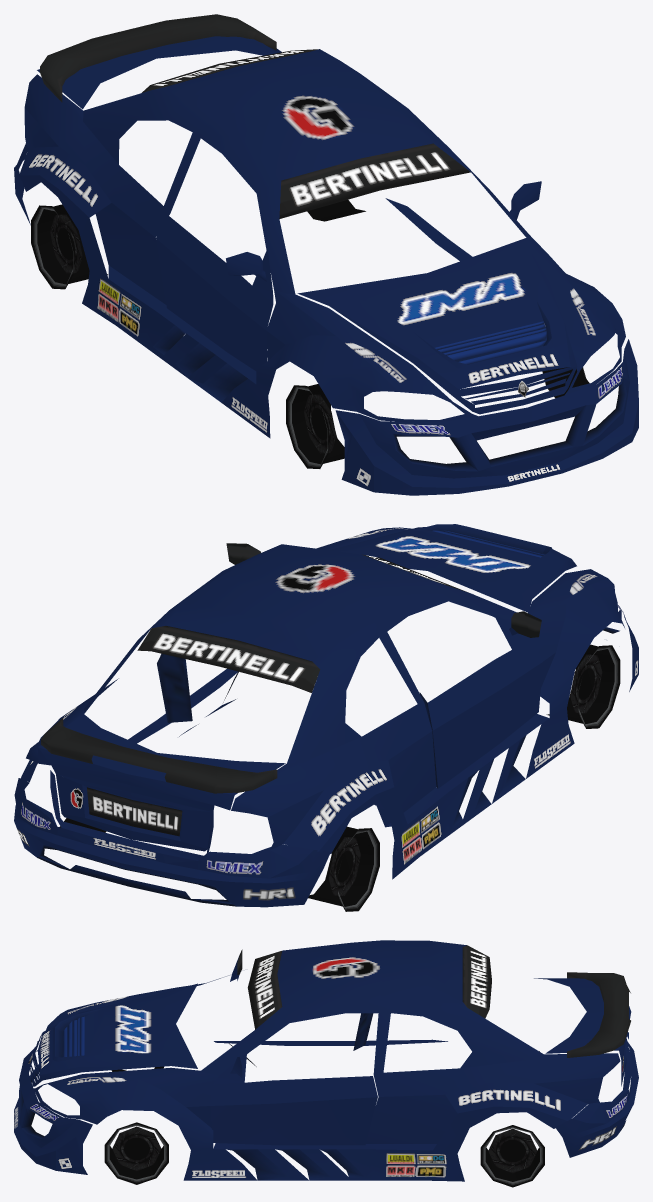
The model's file is car-CUPE_Car4.glb.
3 renders of one model, top to bottom at view 1: azimuth 30°, elevation 25°; view 2: azimuth 150°, elevation 25°; view 3: azimuth 270°, elevation 25°, orthographic. The views are drawn at different scales.
Parts seen in each view (by area): view 1: CUPE_Car4; view 2: CUPE_Car4; view 3: CUPE_Car4.
Part boxes in pixels (<box>): CUPE_Car4: <box>14,14,638,495</box>; CUPE_Car4: <box>14,524,638,911</box>; CUPE_Car4: <box>14,940,638,1187</box>.
Bounding box in the file's own units: 2.05 × 1.35 × 4.64.
19 materials, 19 textured.
